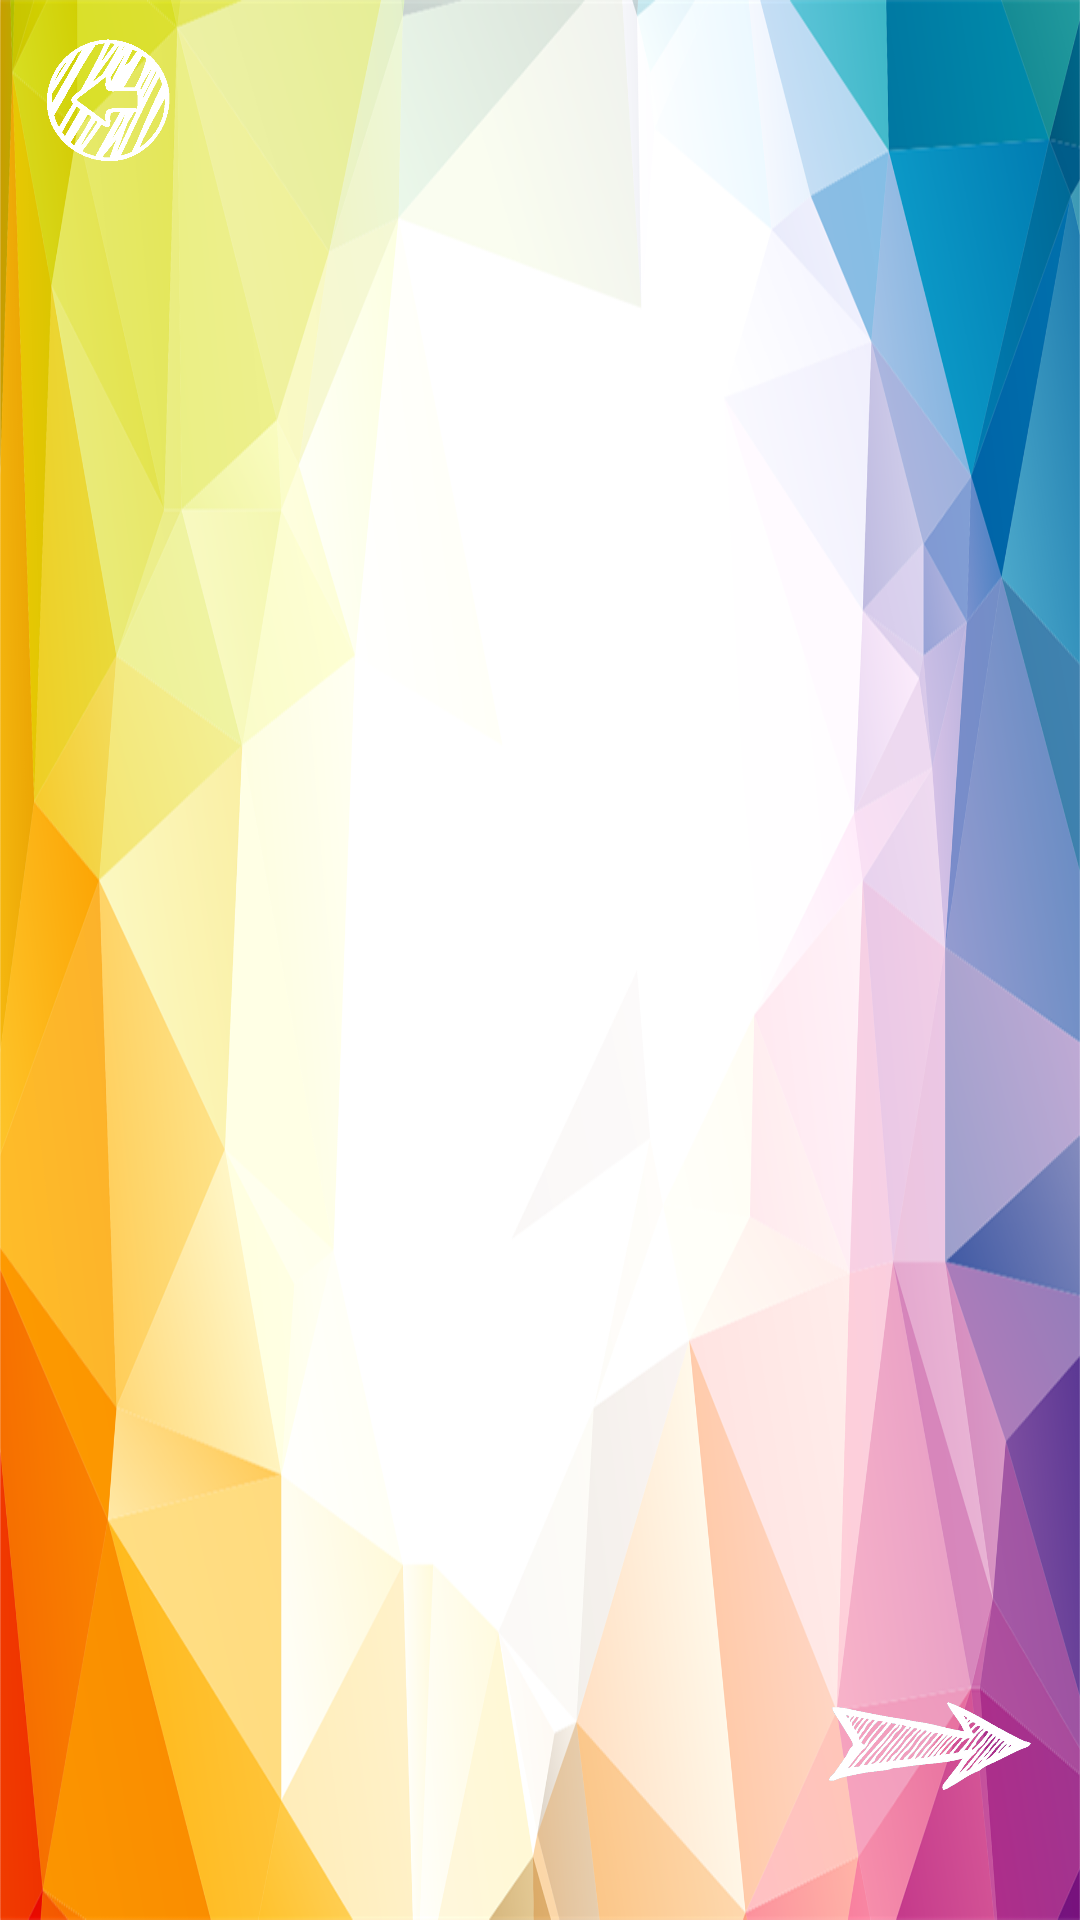

Screen size 1080 x 1920. Icon name, then its center in pixels as (x,y):
back: (105,105)
